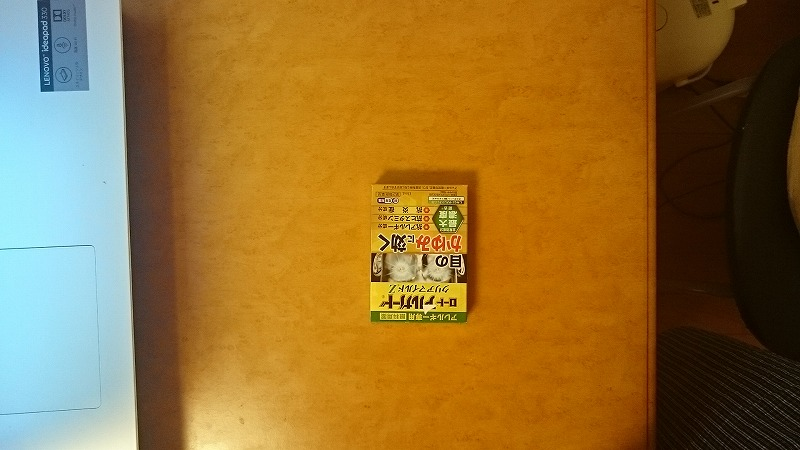C: (364, 177, 475, 332)
